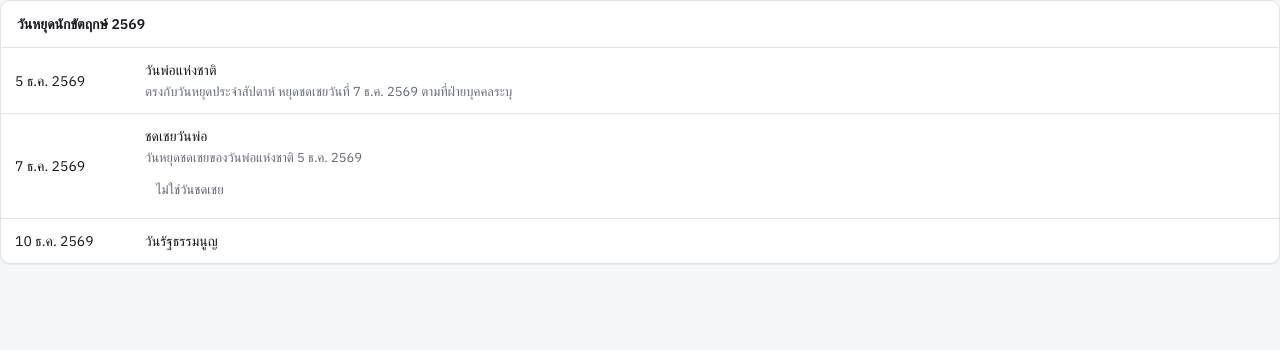
it: Public holidays and their substitute days (CW-081) › shows a marked substitute both ways, and can make it an ordinary holiday again
Expected: the text "ตรงกับวันหยุดประจำสัปดาห์ หยุดชดเชยวันที่ 7 ธ.ค. 2569 ตามที่ฝ่ายบุคคลระบุ" is shown, [145,83,512,100]
Expected: the text "วันหยุดชดเชยของวันพ่อแห่งชาติ 5 ธ.ค. 2569" is shown, [145,149,362,166]
Click the button "ไม่ใช่วันชดเชย".
click(190, 191)  # box [145,175,235,207]
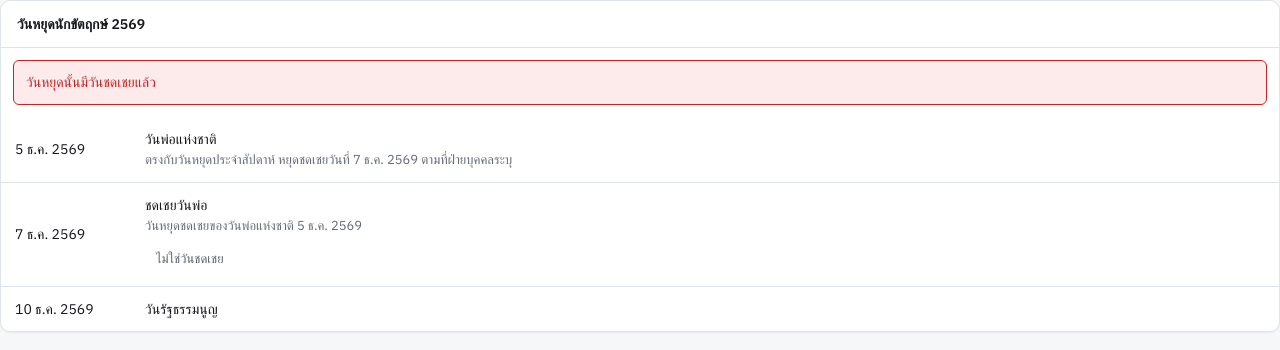
Expected: the message reads "วันหยุดนั้นมีวันชดเชยแล้ว", [26,73,156,91]
